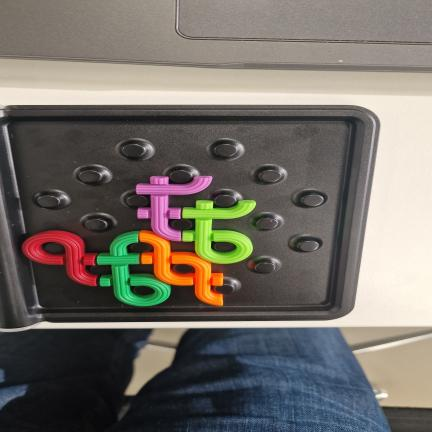D_Green: (97, 232, 170, 306)
H_Purple: (136, 176, 212, 241)
I_Orange: (139, 231, 223, 305)
J_DarkRed: (22, 231, 97, 286)
K_YellowGreen: (182, 200, 256, 263)
board: (0, 106, 378, 328)
hinge: (0, 109, 22, 329)
pin: (214, 277, 241, 295), (122, 143, 146, 157), (214, 143, 238, 157), (259, 169, 282, 183), (169, 170, 193, 183), (79, 170, 102, 183), (37, 195, 60, 208), (301, 194, 324, 207), (85, 218, 108, 231), (213, 195, 237, 207), (126, 195, 148, 208), (256, 218, 279, 230), (297, 240, 319, 252), (129, 242, 152, 253), (43, 242, 64, 254), (170, 219, 192, 230), (212, 242, 236, 252), (255, 262, 275, 274), (172, 264, 194, 274), (90, 265, 111, 275), (132, 286, 153, 295)
